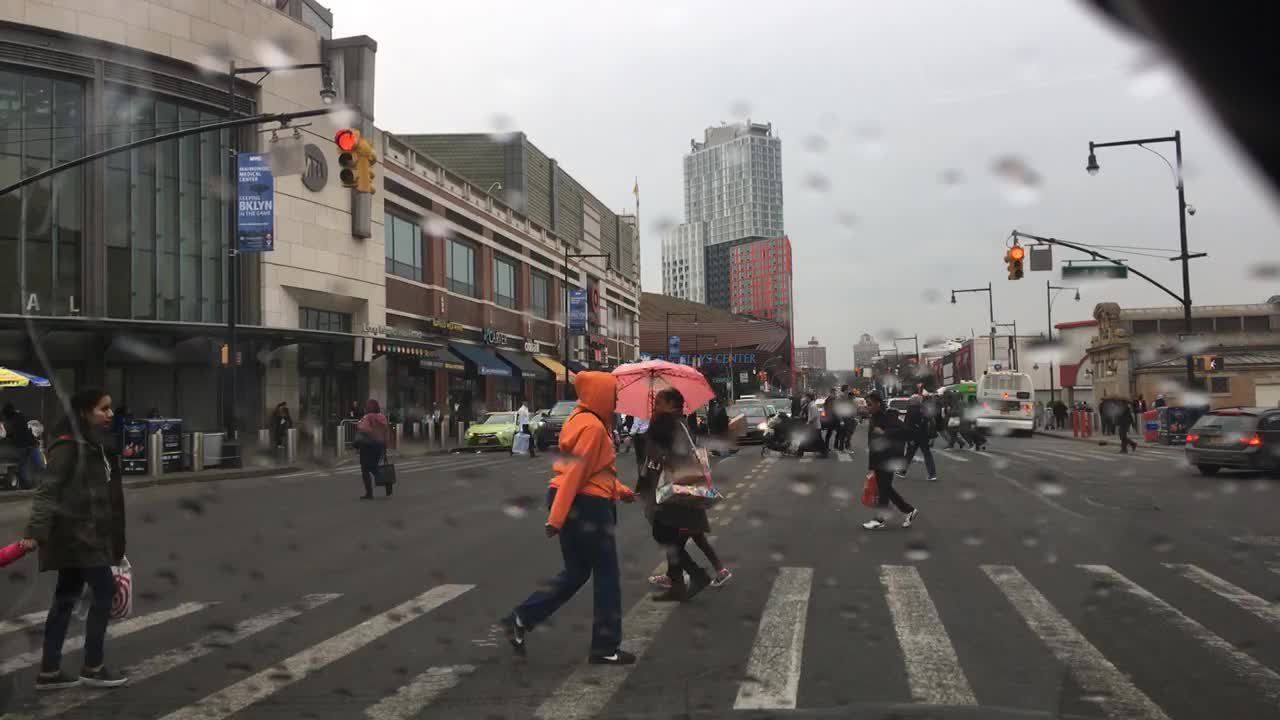bus: (974, 367, 1038, 434)
car: (1184, 406, 1279, 478), (461, 408, 538, 453), (724, 392, 774, 448), (535, 397, 579, 452), (882, 396, 912, 427), (883, 392, 912, 421), (692, 401, 715, 437), (773, 394, 797, 412), (760, 399, 778, 422)
motor: (0, 426, 64, 495)
person: (497, 367, 644, 665), (22, 389, 138, 690), (611, 361, 722, 602), (642, 417, 732, 589), (859, 387, 919, 533), (354, 397, 397, 500), (895, 391, 942, 484), (792, 392, 835, 462), (625, 417, 652, 497), (508, 396, 539, 462), (933, 389, 962, 447), (1111, 397, 1138, 456), (947, 388, 971, 449), (823, 384, 842, 456), (967, 393, 990, 449), (833, 383, 850, 454), (269, 399, 287, 453), (347, 399, 363, 446), (428, 401, 446, 442), (787, 387, 804, 429), (1098, 394, 1113, 436), (1053, 394, 1069, 432), (847, 393, 858, 448), (1131, 391, 1146, 418), (143, 408, 168, 422), (282, 398, 292, 431), (1076, 399, 1093, 416), (1151, 391, 1169, 407)
rider: (5, 404, 49, 492)
traffic light: (332, 122, 366, 187), (364, 139, 377, 197), (1009, 244, 1028, 281), (1200, 353, 1228, 372), (1003, 252, 1014, 281)
traffic sign: (268, 132, 307, 178), (1059, 267, 1130, 281), (1026, 241, 1054, 272)
